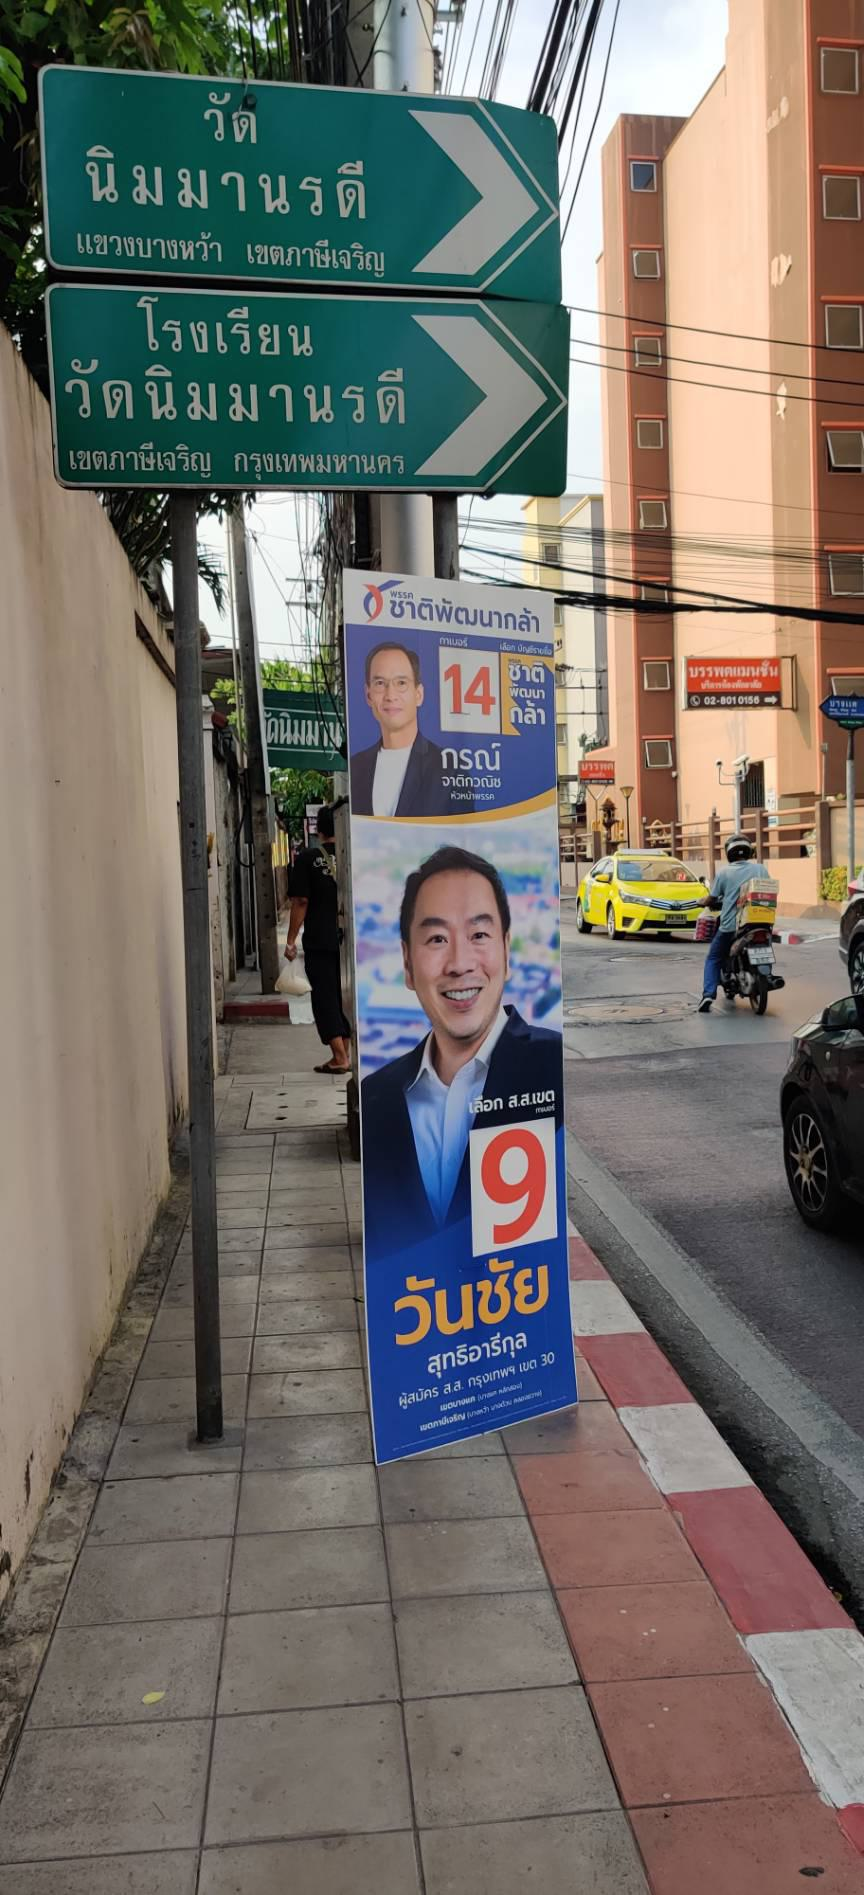Banner: (344, 570, 574, 1451)
